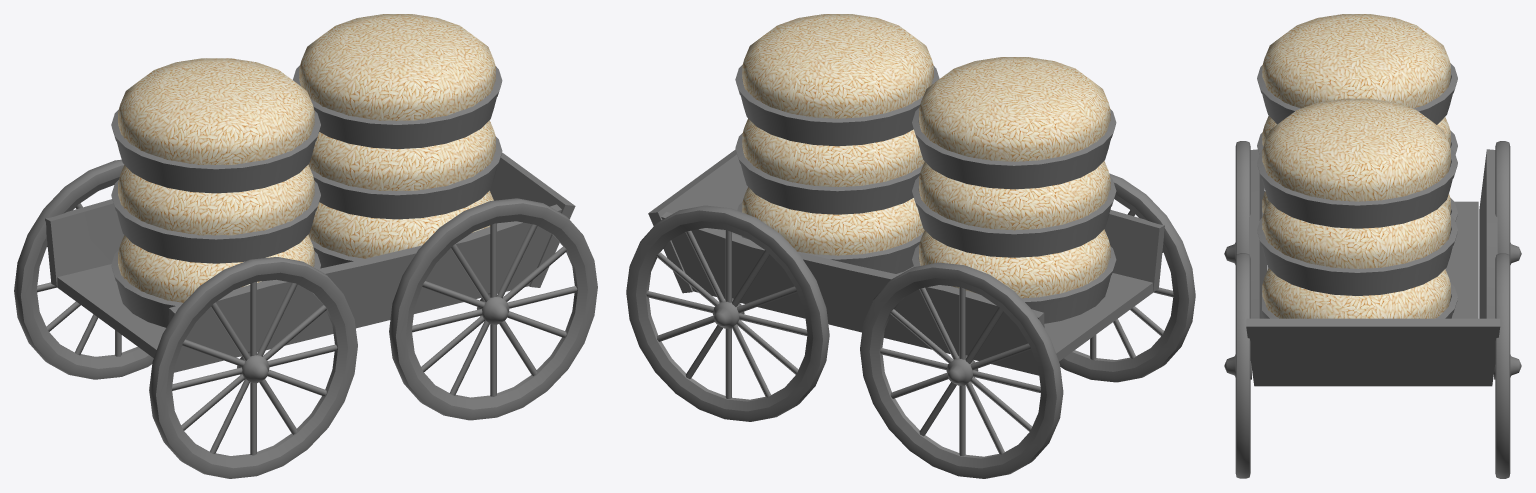
Rendered from SM_cart_preset_01.fbx.
3 views of the same model, side by side, from view 1: azimuth 30°, elevation 25°; view 2: azimuth 150°, elevation 25°; view 3: azimuth 270°, elevation 25° (orthographic). The views are drawn at different scales.
Parts seen in each view (by area): view 1: Cylinder424491; view 2: Cylinder424491; view 3: Cylinder424491.
Part boxes in pixels (x1,y1,x2,y2): Cylinder424491: [14, 14, 597, 478]; Cylinder424491: [626, 14, 1195, 478]; Cylinder424491: [1224, 14, 1521, 478].
Size of the model in its own units: 81.93 by 60.86 by 49.51.
